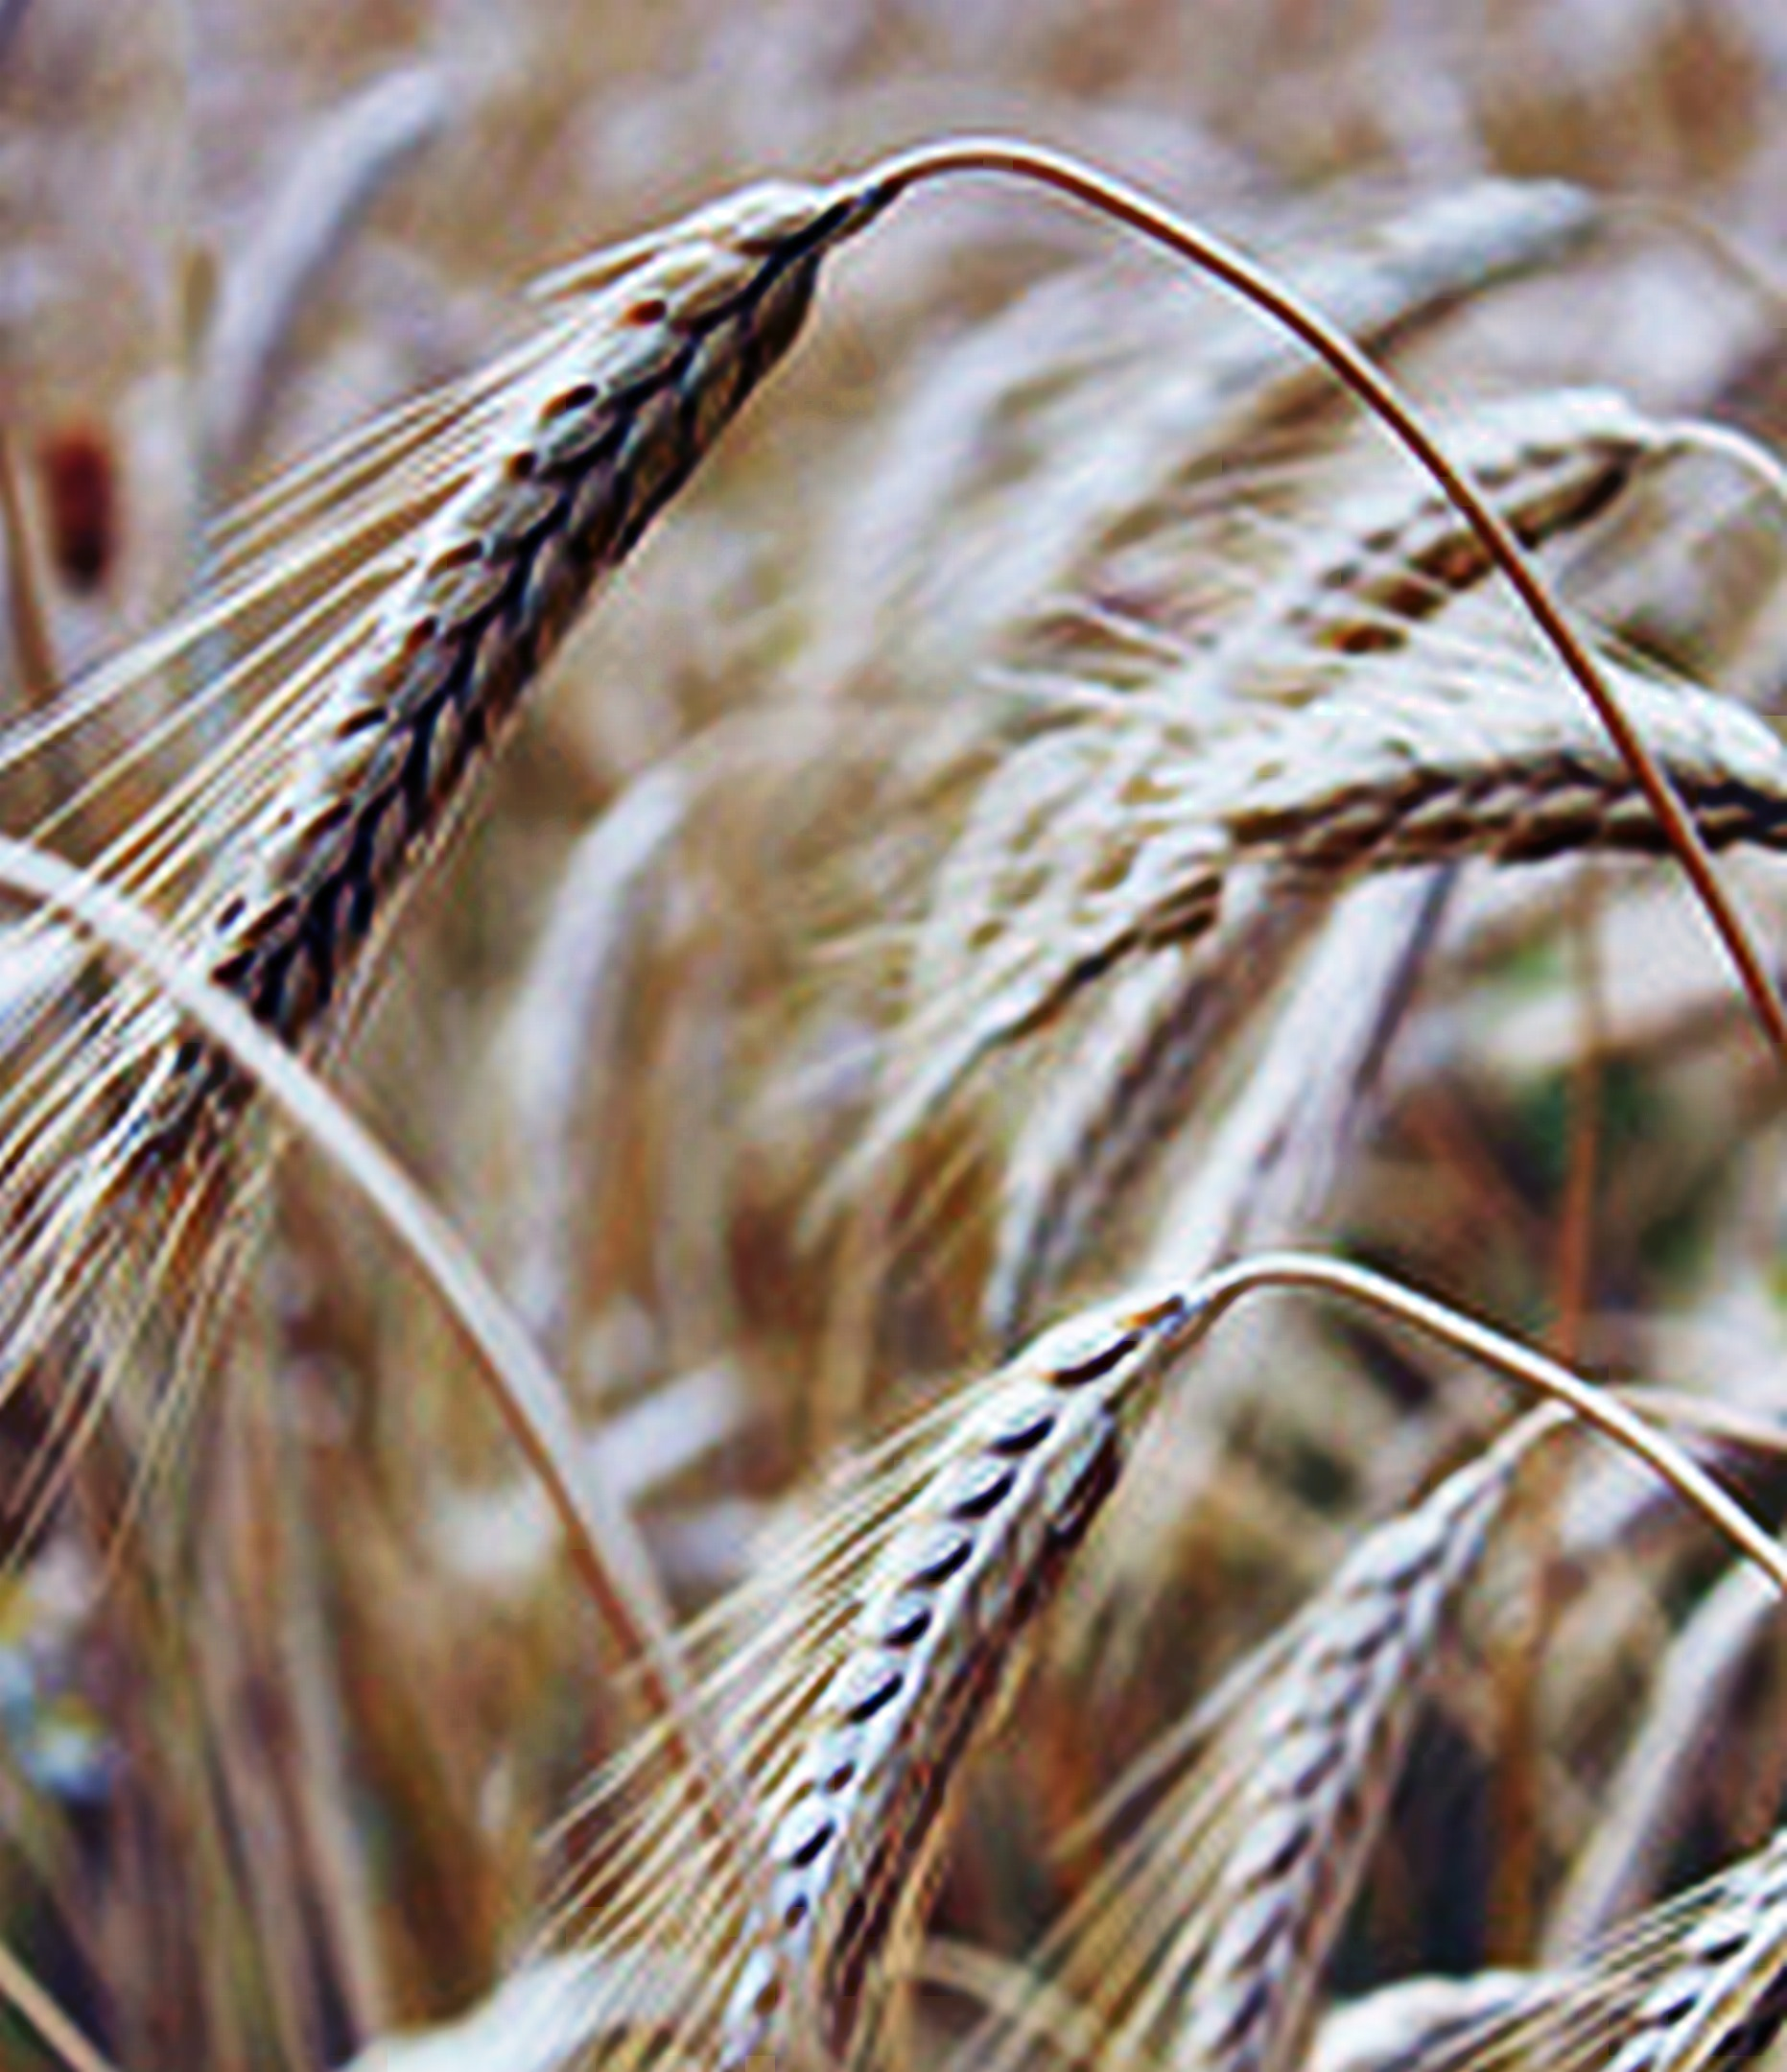Healthy Wheat: (118, 134, 839, 1188)
